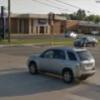cars: (26, 50, 96, 82), (74, 37, 96, 48)
